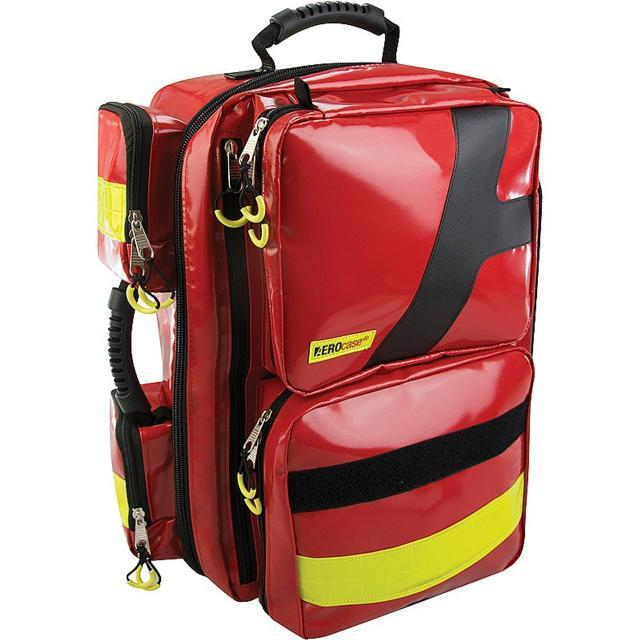Backpacks: (93, 66, 549, 640)
